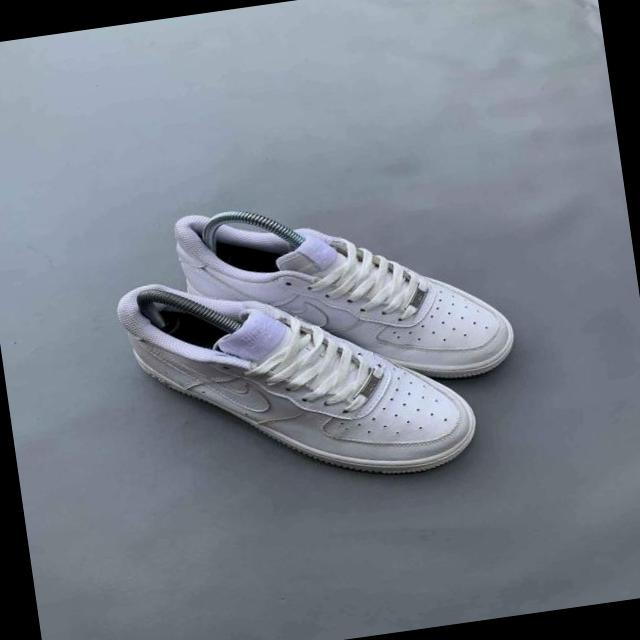nike_fake_airforce: (82, 240, 486, 518), (168, 171, 520, 417)
